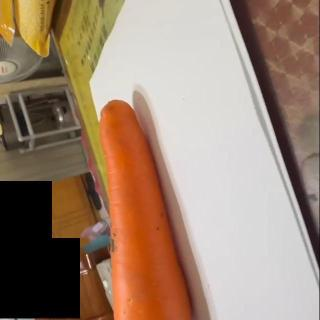carrot: (99, 99, 194, 320)
